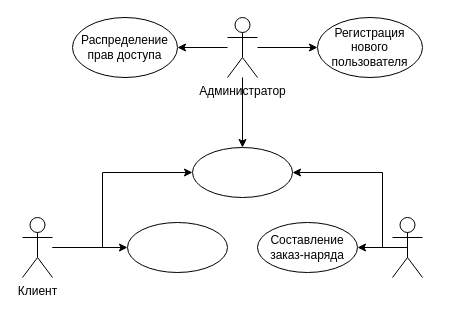
Image size: 453x316. Some labels were removed from this diagram. Each missing label, with the centre of its shape:
"Авторизация" belongs at (x=242, y=172).
"Запись на прием" belongs at (x=177, y=247).
"Сотрудник" belongs at (x=407, y=247).
